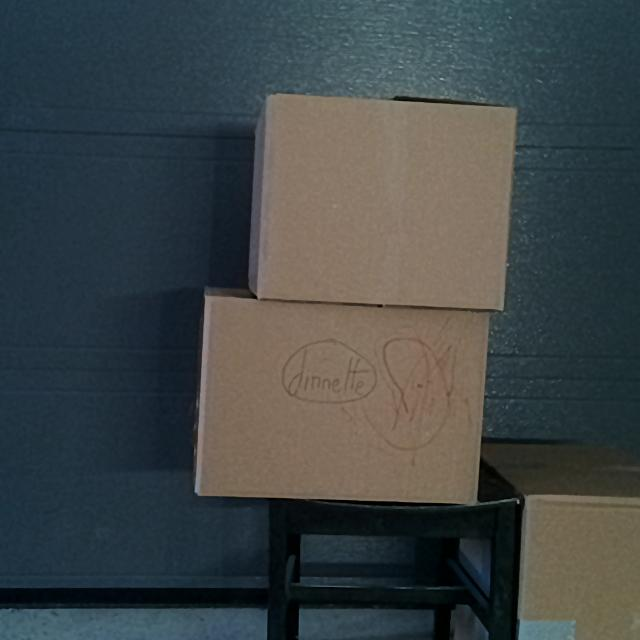box: (197, 302, 489, 501), (261, 103, 517, 303), (523, 493, 640, 640)
